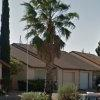Palm tree: (22, 0, 72, 86)
